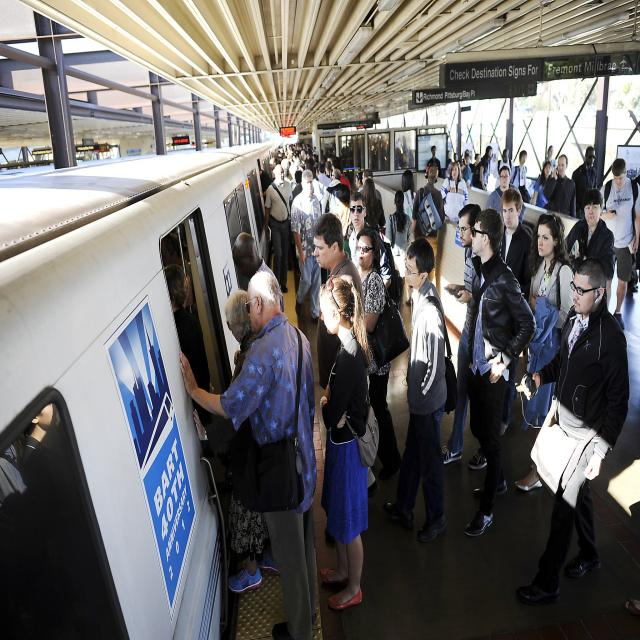body: (178, 268, 319, 640), (511, 254, 632, 607), (192, 287, 280, 594), (463, 208, 538, 538), (384, 236, 459, 546), (316, 273, 380, 616), (312, 211, 379, 498), (514, 210, 576, 493), (0, 380, 83, 554), (355, 227, 411, 480), (439, 202, 488, 471), (498, 187, 534, 437), (163, 222, 213, 394), (596, 157, 640, 336), (290, 168, 323, 325), (562, 187, 616, 282), (346, 190, 392, 290), (410, 161, 446, 286), (262, 162, 296, 294), (232, 232, 285, 313), (385, 188, 413, 316), (484, 164, 527, 226), (344, 134, 416, 169), (543, 153, 577, 220), (268, 140, 344, 168), (439, 160, 470, 224), (572, 146, 598, 220), (626, 168, 640, 300), (361, 177, 386, 234), (509, 150, 532, 204), (402, 168, 418, 244), (532, 159, 553, 209), (472, 145, 493, 191), (459, 147, 482, 189), (322, 168, 342, 215), (493, 148, 515, 190), (359, 168, 383, 206), (312, 160, 329, 207), (283, 167, 304, 199), (257, 168, 275, 195), (426, 145, 441, 177), (542, 145, 557, 173), (337, 183, 351, 207), (338, 168, 350, 190), (354, 170, 364, 193), (446, 148, 453, 170), (324, 168, 336, 180), (453, 151, 459, 163), (316, 168, 320, 179)
